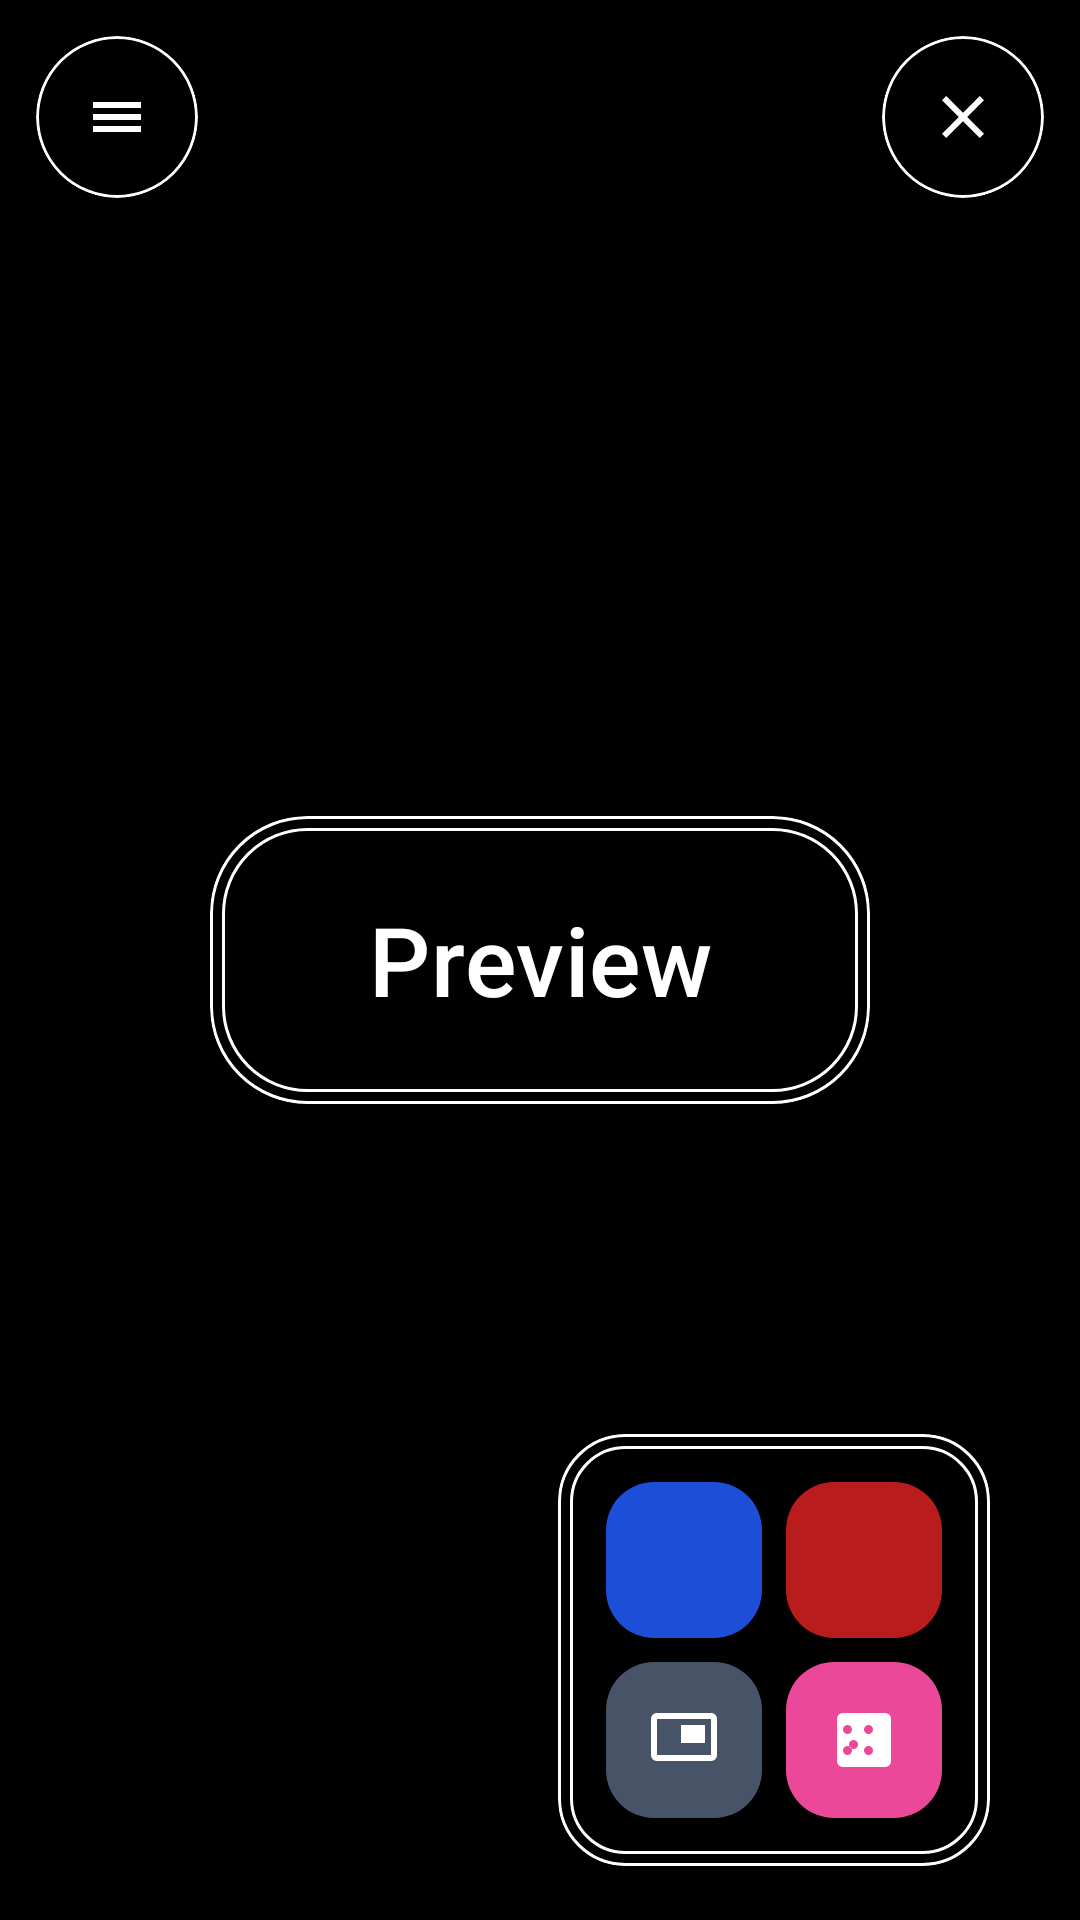

Icons on this 1080w x 1920h Android screen, each with the point to tap as (x=x, y=y):
Close all pictures: (x=963, y=117)
Open: (x=117, y=117)
Random show one picture: (x=864, y=1740)
